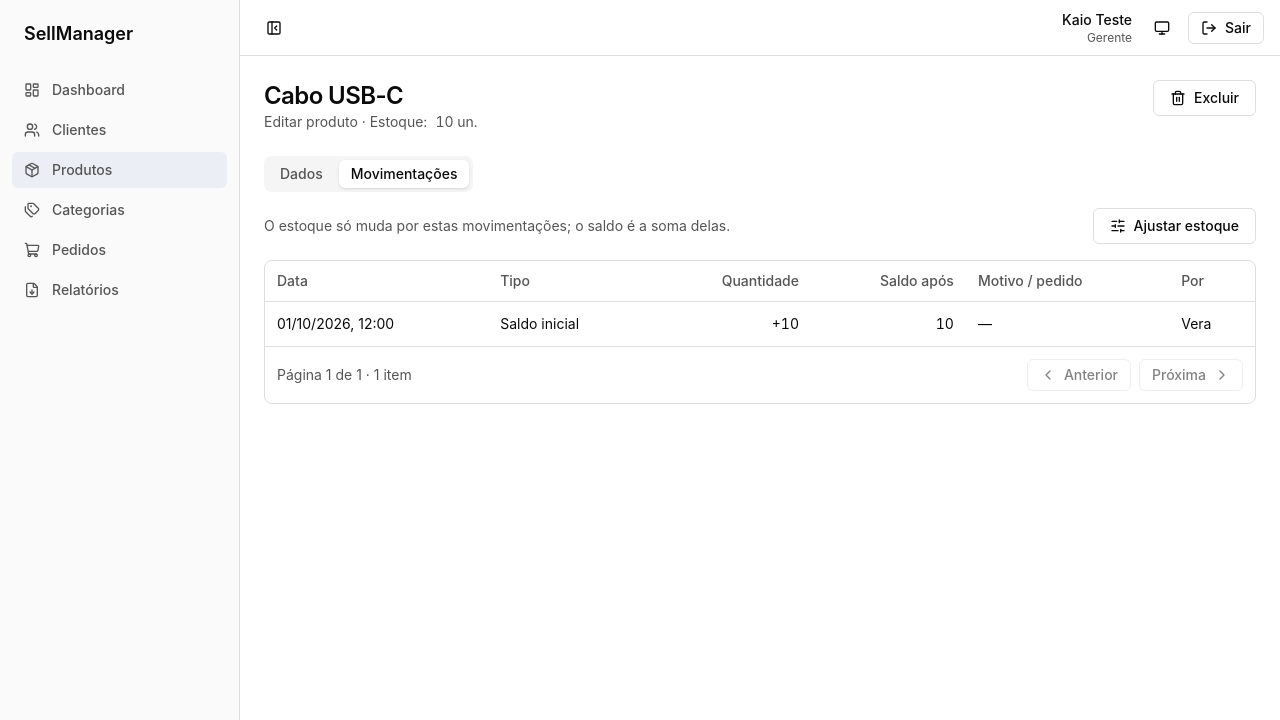
Scenario: Estoque no produto › entrada negativa é barrada pelo schema
Click the button "Ajustar estoque" at {"x": 1174, "y": 226}, box [1092, 208, 1256, 244]
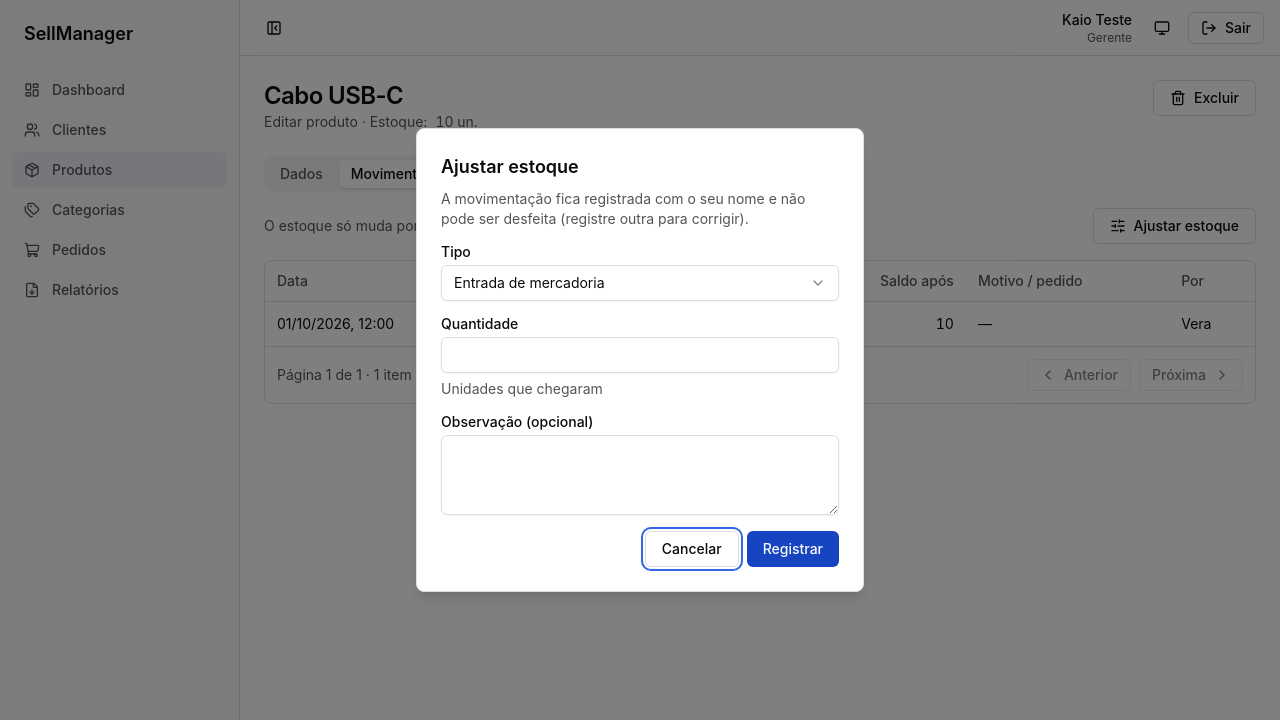
Type "-1" into the number field labelled "Quantidade" at {"x": 640, "y": 355}, box [441, 337, 839, 373]
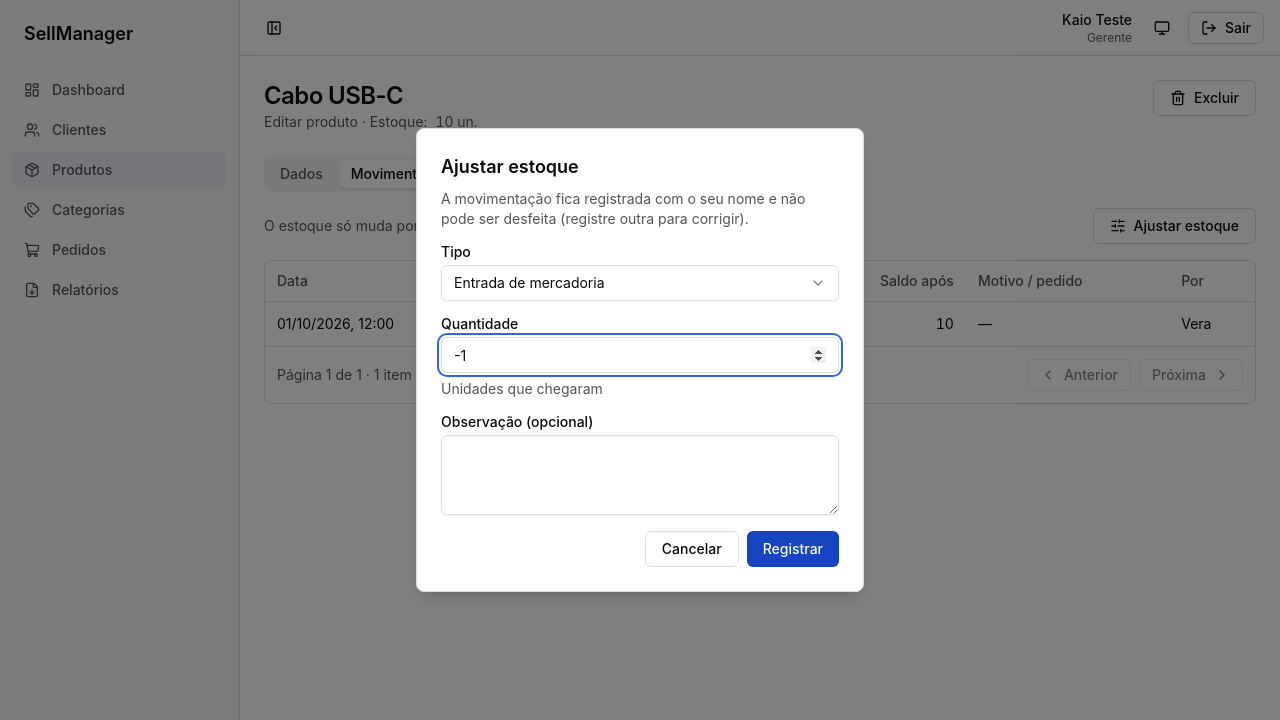
Click the button "Registrar" at {"x": 793, "y": 549}, box [747, 531, 839, 567]
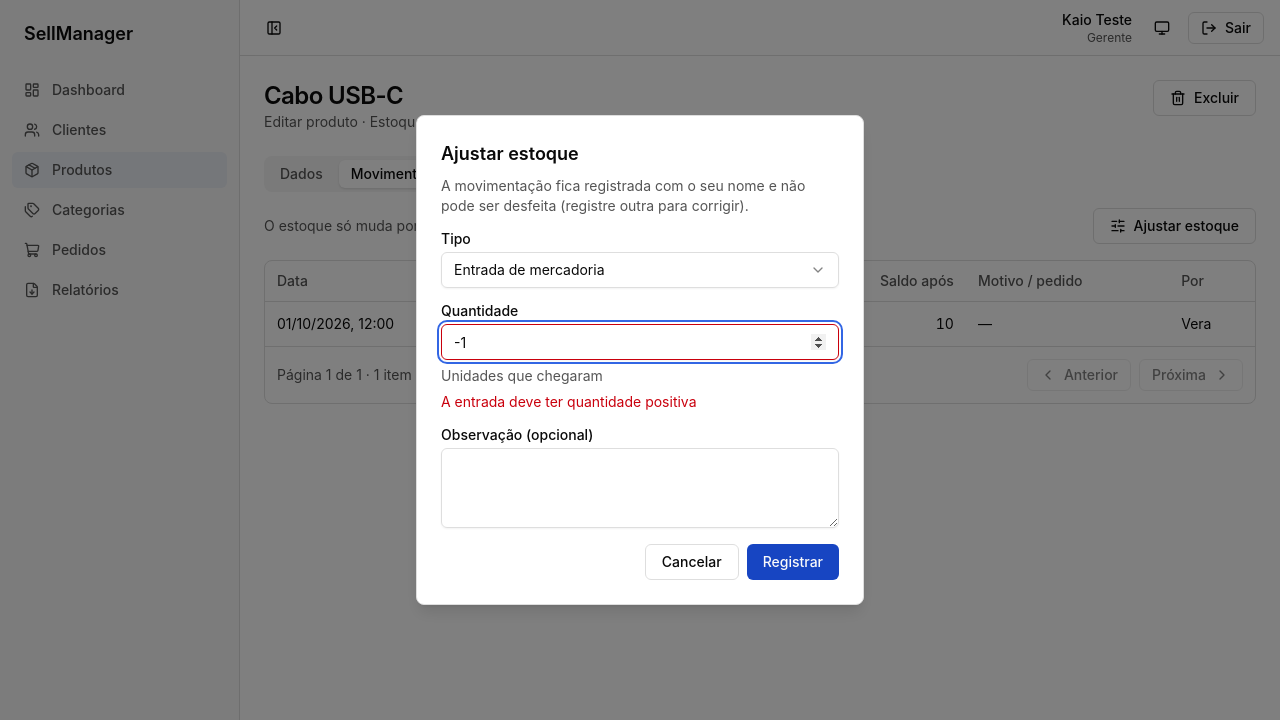
Now the text "A entrada deve ter quantidade positiva" is shown, box [441, 393, 696, 410]
